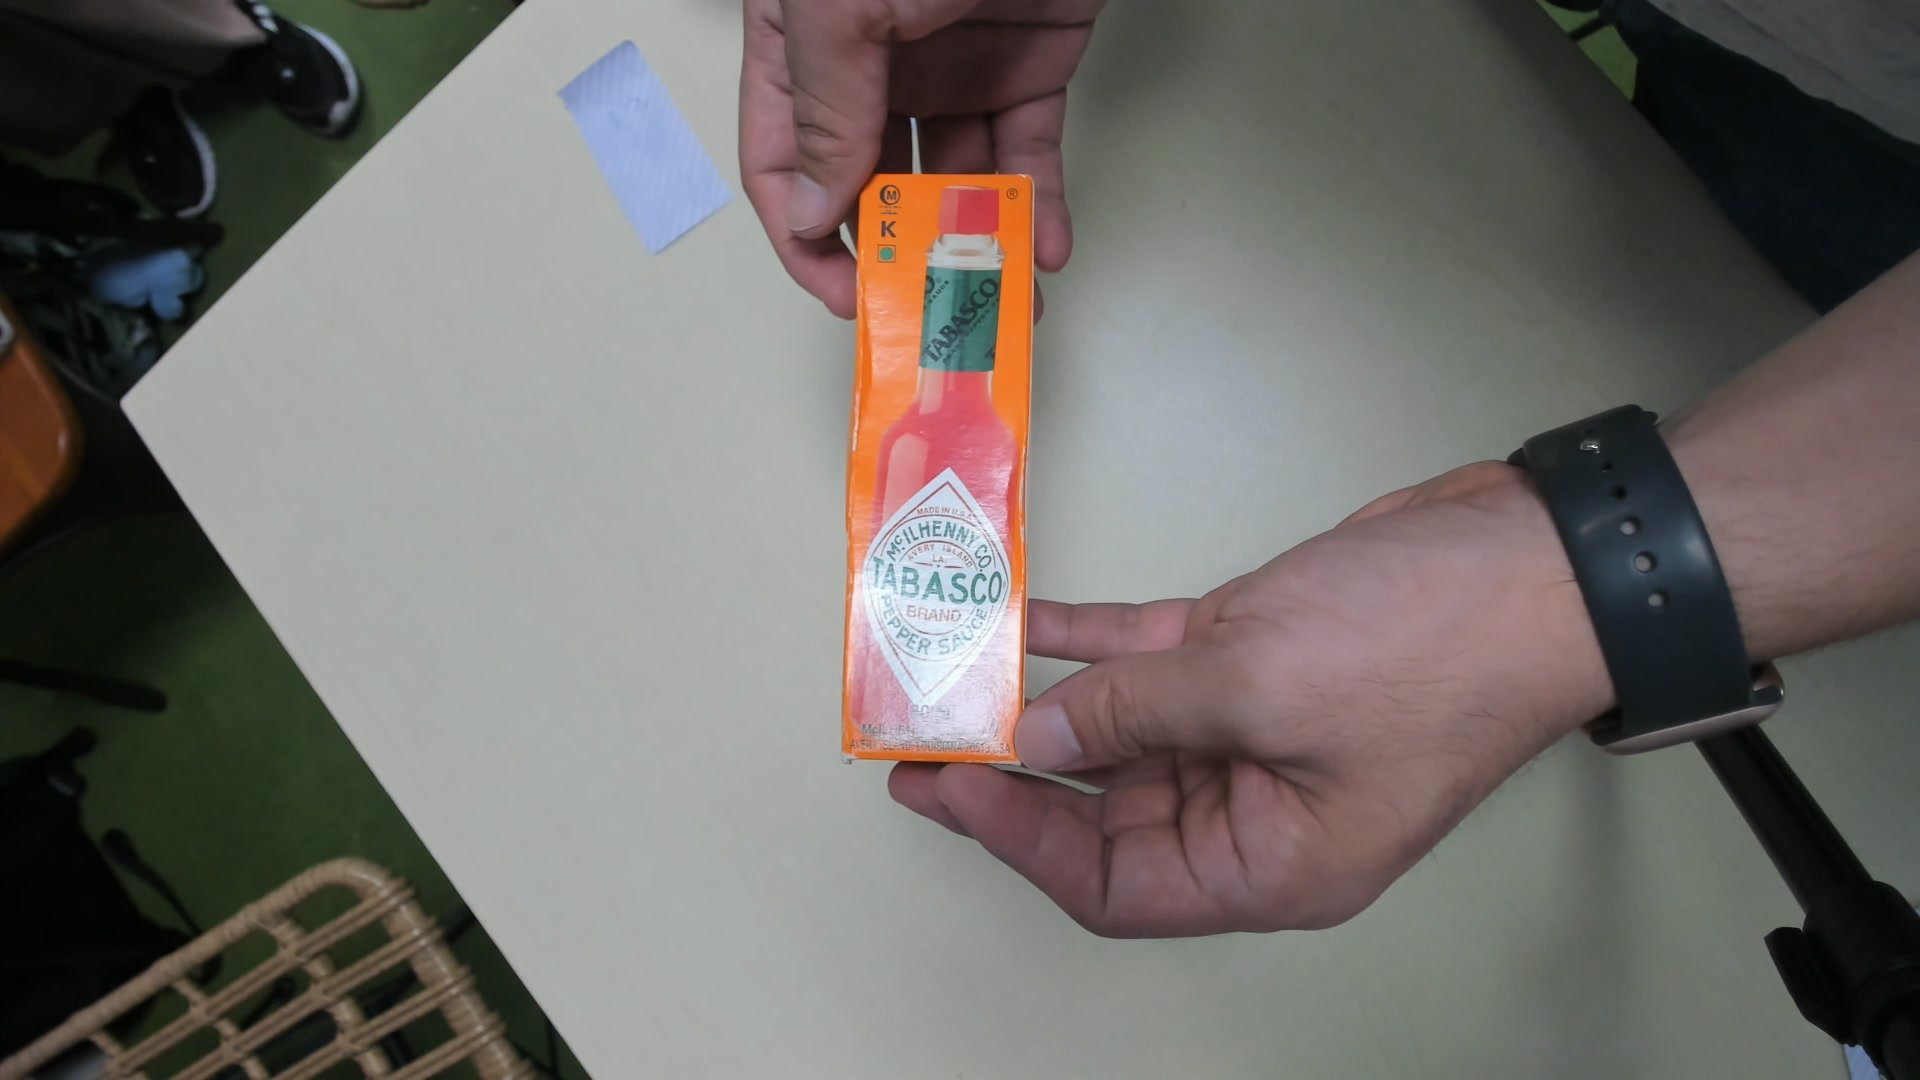KetchupChillSauce_0-99g_NonHalal_NonHealthy: (841, 160, 1040, 760)
